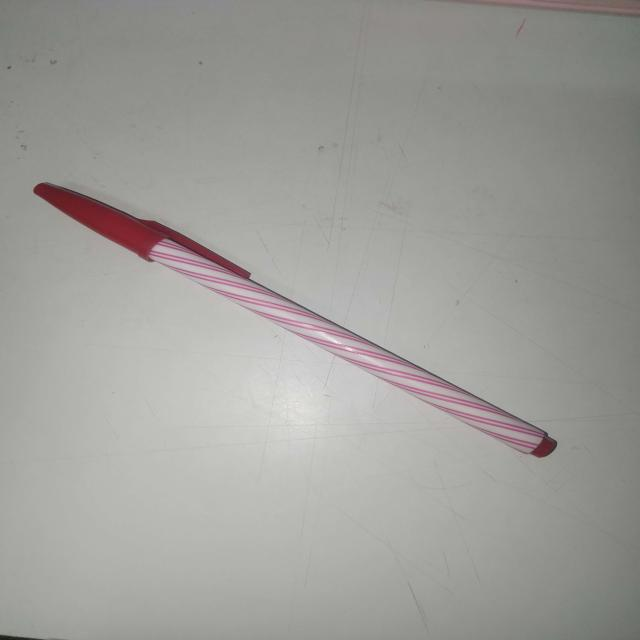pen_pencil: (4, 133, 572, 484)
